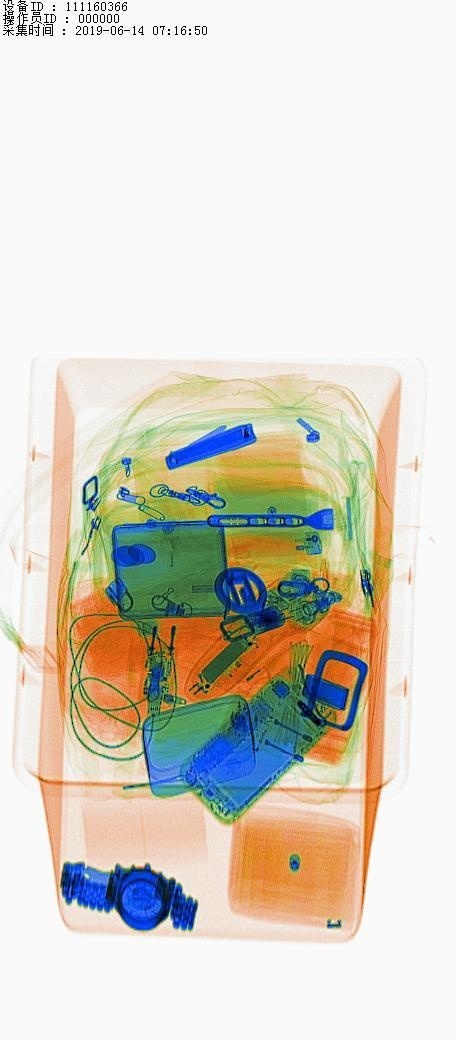NonmetallicFire: (225, 514, 332, 564)
